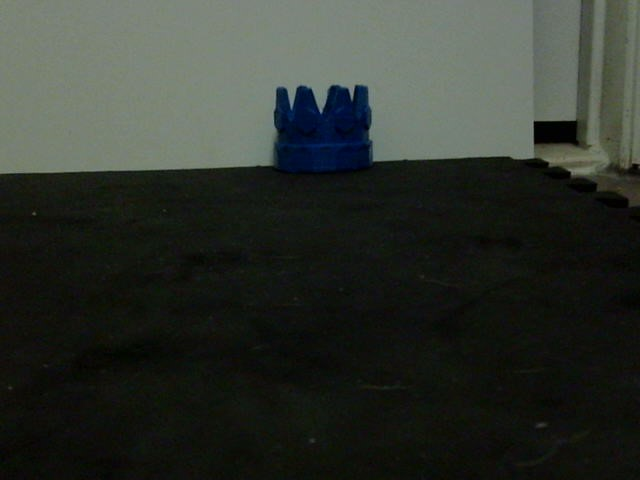crown: (273, 83, 374, 174)
